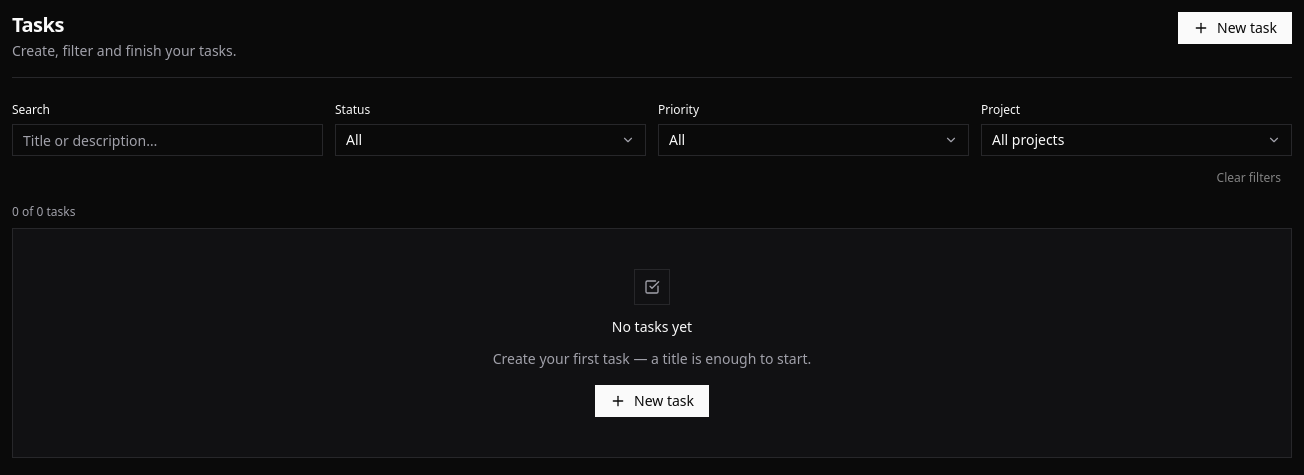
TasksPage search debounce › drops the pending query when filters are cleared mid-debounce
In the search field labelled "Search": (168, 140) [12,124,323,156], type "abc"
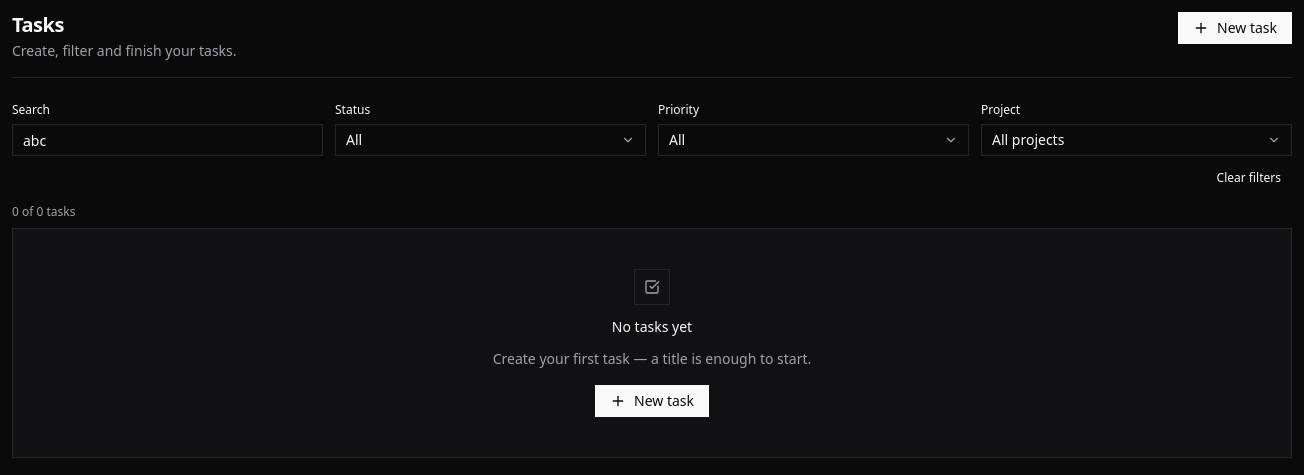
Click the button "Clear filters": (1249, 178) [1206,164,1292,192]
Wait 750 ms
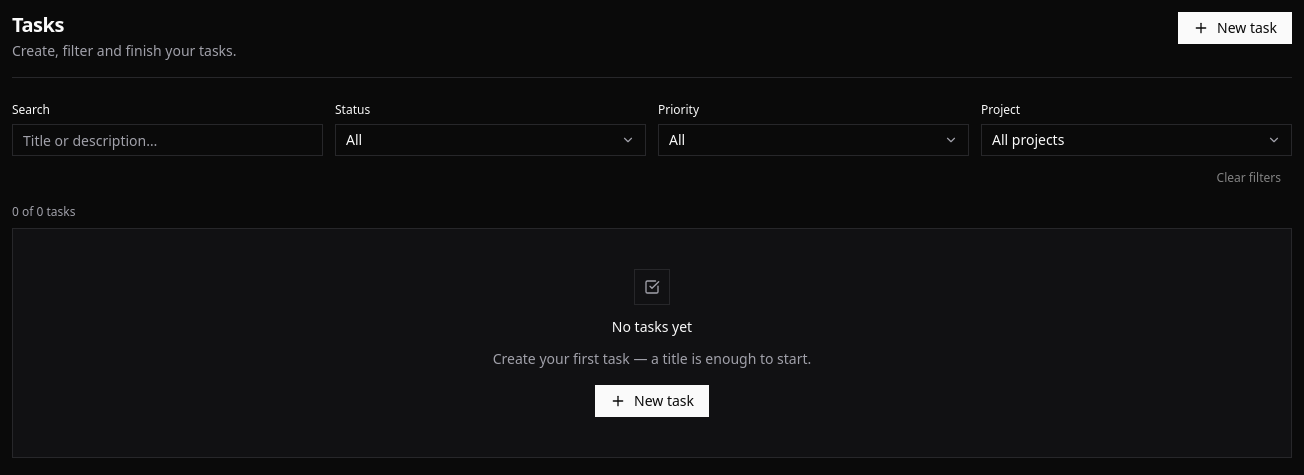
expect the search field labelled "Search" is empty: met, box [12,124,323,156]
